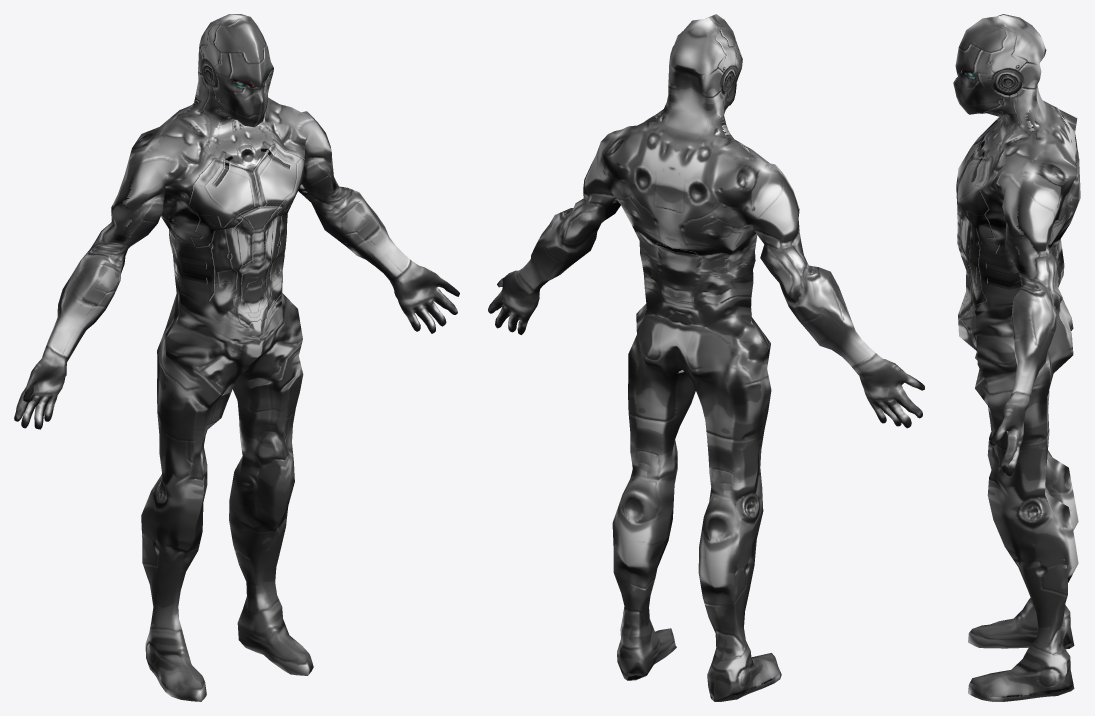
The model's file is cyc_ok.FBX.
3 renders of one model, left to right at view 1: azimuth 30°, elevation 25°; view 2: azimuth 150°, elevation 25°; view 3: azimuth 270°, elevation 25°, orthographic. The views are drawn at different scales.
Parts seen in each view (by area): view 1: clean_unwrap; view 2: clean_unwrap; view 3: clean_unwrap.
Boxes of the visible parts, x1,y1,x2,y2 form: clean_unwrap: (14,14,459,701); clean_unwrap: (488,14,924,701); clean_unwrap: (953,14,1080,701).
Size of the model in its own units: 1.4 by 2 by 0.3544.
